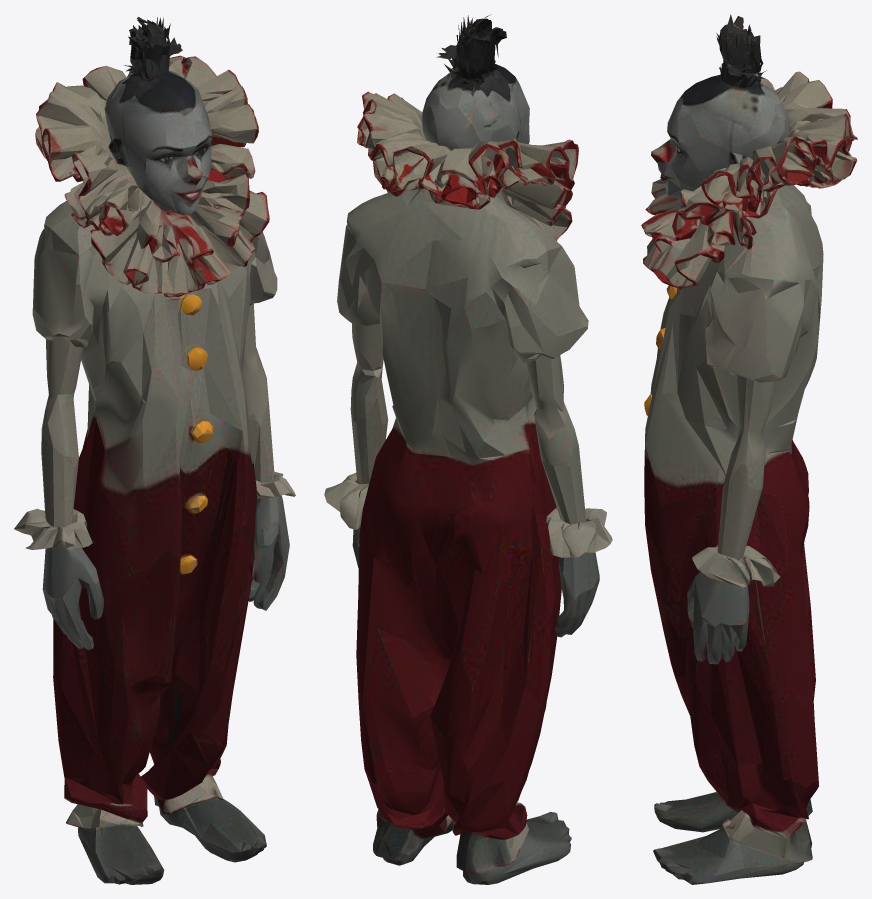
File: manequim_palhaco.glb
3 views of the same model, side by side, from view 1: azimuth 30°, elevation 25°; view 2: azimuth 150°, elevation 25°; view 3: azimuth 270°, elevation 25° (orthographic). The views are drawn at different scales.
Bounding box in the file's own units: 0.6348 × 1.89 × 0.4502.
1 material, 1 textured.
